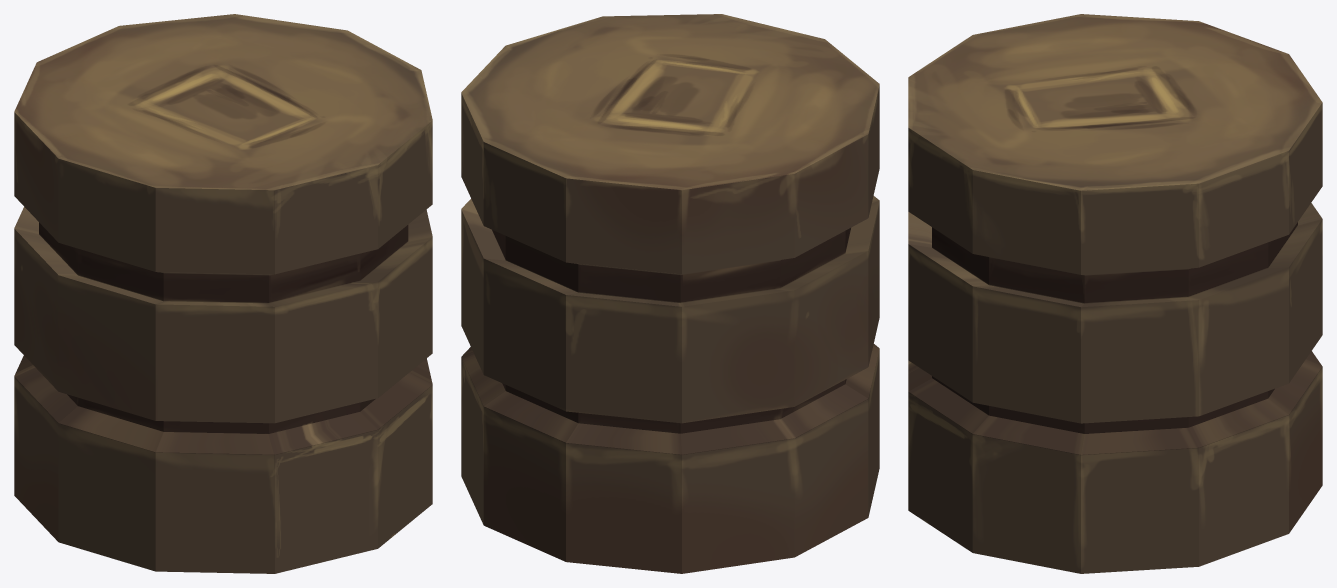
The model's file is Bolsa monedas.fbx.
3 views of the same model, side by side, from view 1: azimuth 30°, elevation 25°; view 2: azimuth 150°, elevation 25°; view 3: azimuth 270°, elevation 25° (orthographic).
Visible parts, largest first — view 1: Cylinder; view 2: Cylinder; view 3: Cylinder.
Part boxes in pixels (box(x1,y1,x2,y2)): Cylinder: box(14, 14, 432, 573); Cylinder: box(461, 14, 879, 573); Cylinder: box(908, 14, 1322, 573).
Bounding box in the file's own units: 198 × 200 × 196.
